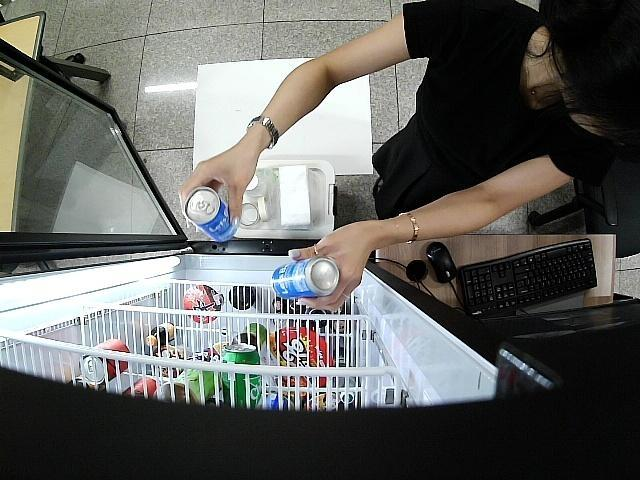15_letsbe: (186, 188, 236, 241), (272, 260, 340, 297)
